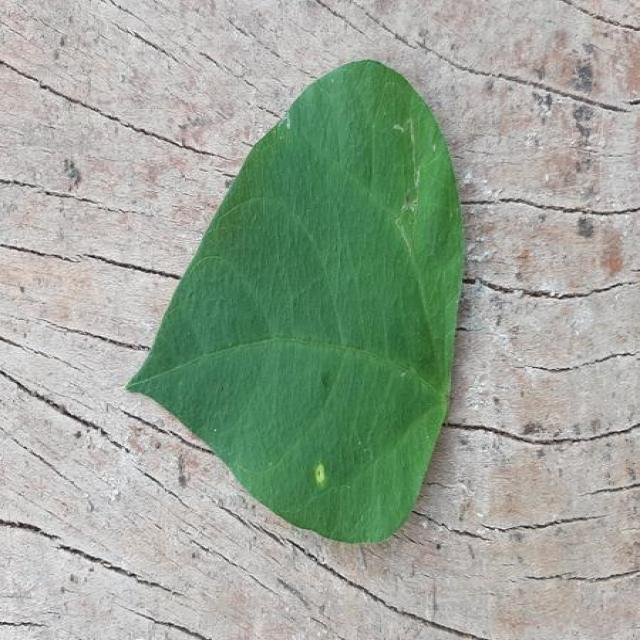beans: (127, 60, 463, 542)
